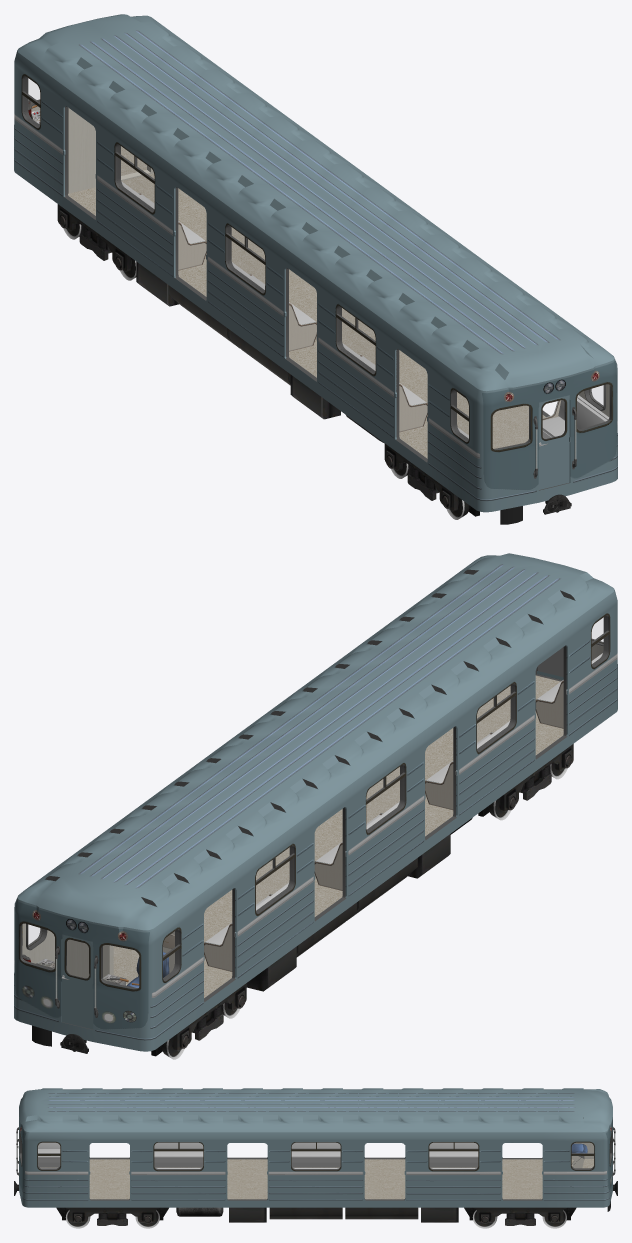
File: SubwayTrain06_Body1.FBX
The picture shows the model from 3 angles, top to bottom: view 1: azimuth 30°, elevation 25°; view 2: azimuth 150°, elevation 25°; view 3: azimuth 270°, elevation 25°; orthographic projection. The views are drawn at different scales.
Parts seen in each view (by area): view 1: SubwayTrain06_Roof, SubwayTrain06_Body1, SubwayTrain06_Inter, SubwayTrain06_Wheels, SubwayTrain06_InterBench, SubwayTrain_Bench01c, SubwayTrain06_InterEnter, SubwayTrain06_DoorF1; view 2: SubwayTrain06_Roof, SubwayTrain06_Body1, SubwayTrain06_Inter, SubwayTrain06_Wheels, SubwayTrain06_InterBench, SubwayTrain06_DoorF2, SubwayTrain_Bench01c, SubwayTrain06_InterEnter, SubwayTrain06_Inter2; view 3: SubwayTrain06_Body1, SubwayTrain06_Roof, SubwayTrain06_Inter, SubwayTrain06_Wheels, SubwayTrain_Bench01c, SubwayTrain06_Inter2.
Part boxes in pixels (<box>): SubwayTrain06_Roof: <box>17,14,614,391</box>; SubwayTrain06_Body1: <box>14,50,617,512</box>; SubwayTrain06_Inter: <box>22,76,611,490</box>; SubwayTrain06_Wheels: <box>57,204,571,524</box>; SubwayTrain06_InterBench: <box>138,193,561,432</box>; SubwayTrain_Bench01c: <box>121,181,609,438</box>; SubwayTrain06_InterEnter: <box>68,107,153,193</box>; SubwayTrain06_DoorF1: <box>538,396,569,489</box>; SubwayTrain06_Roof: <box>17,553,614,930</box>; SubwayTrain06_Body1: <box>14,590,617,1051</box>; SubwayTrain06_Inter: <box>20,615,609,1029</box>; SubwayTrain06_Wheels: <box>32,744,573,1059</box>; SubwayTrain06_InterBench: <box>204,680,563,971</box>; SubwayTrain06_DoorF2: <box>61,935,93,1029</box>; SubwayTrain_Bench01c: <box>205,653,602,944</box>; SubwayTrain06_InterEnter: <box>66,931,174,985</box>; SubwayTrain06_Inter2: <box>22,924,174,1017</box>; SubwayTrain06_Body1: <box>19,1117,612,1207</box>; SubwayTrain06_Roof: <box>19,1088,612,1132</box>; SubwayTrain06_Inter: <box>19,1133,612,1200</box>; SubwayTrain06_Wheels: <box>14,1181,617,1228</box>; SubwayTrain_Bench01c: <box>38,1142,478,1168</box>; SubwayTrain06_Inter2: <box>16,1127,615,1176</box>.
Bounding box in the file's own units: 4082 × 4898 × 24396.
